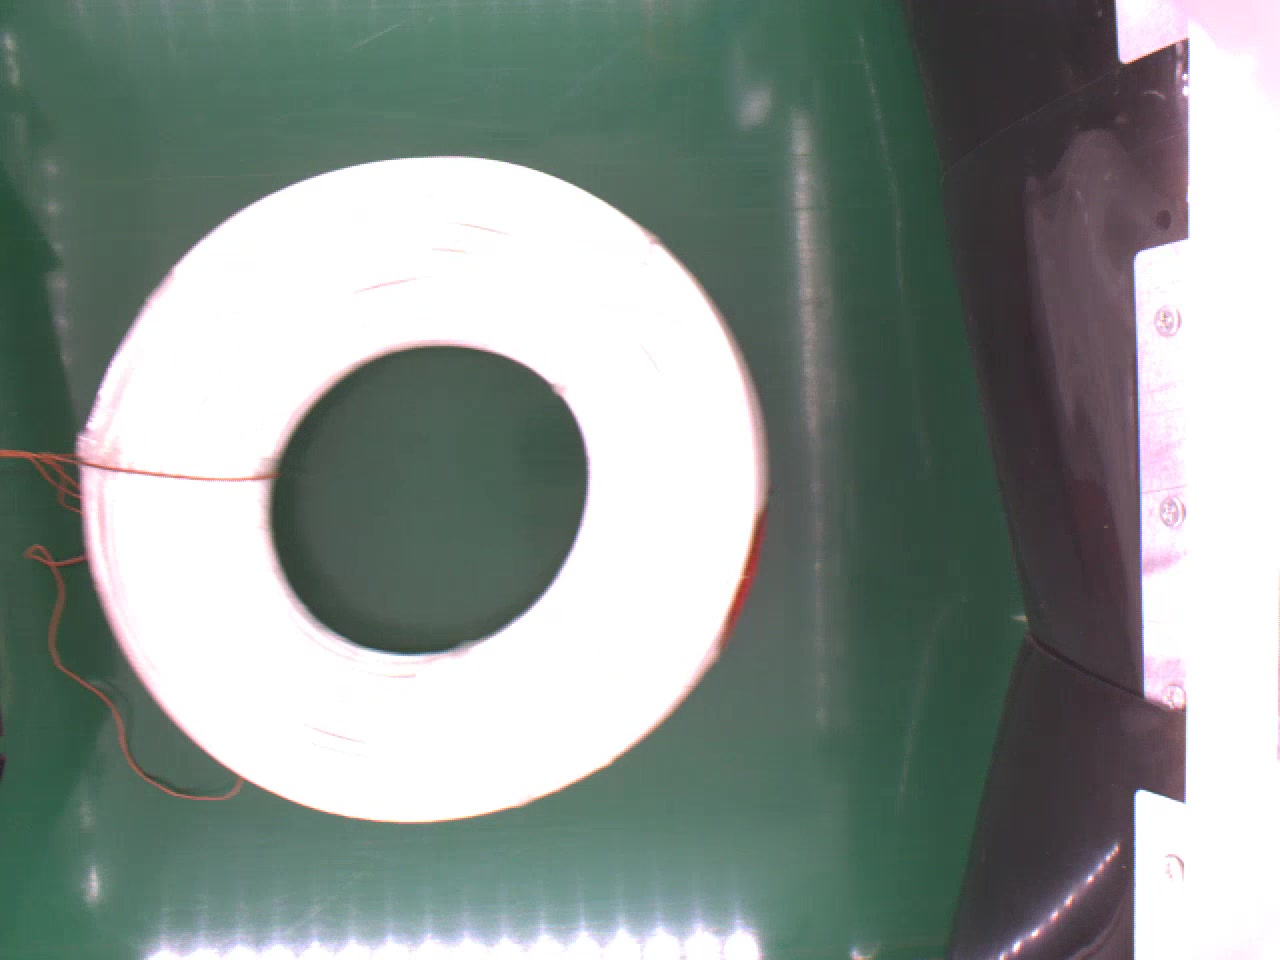white: (76, 150, 766, 819)
